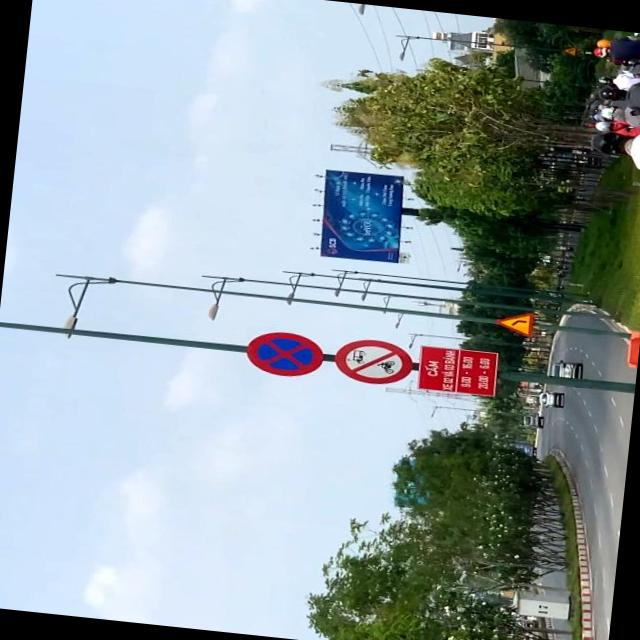P-104: (332, 336, 416, 388)
P-130: (241, 327, 326, 379)
W-201a: (489, 308, 532, 340)
